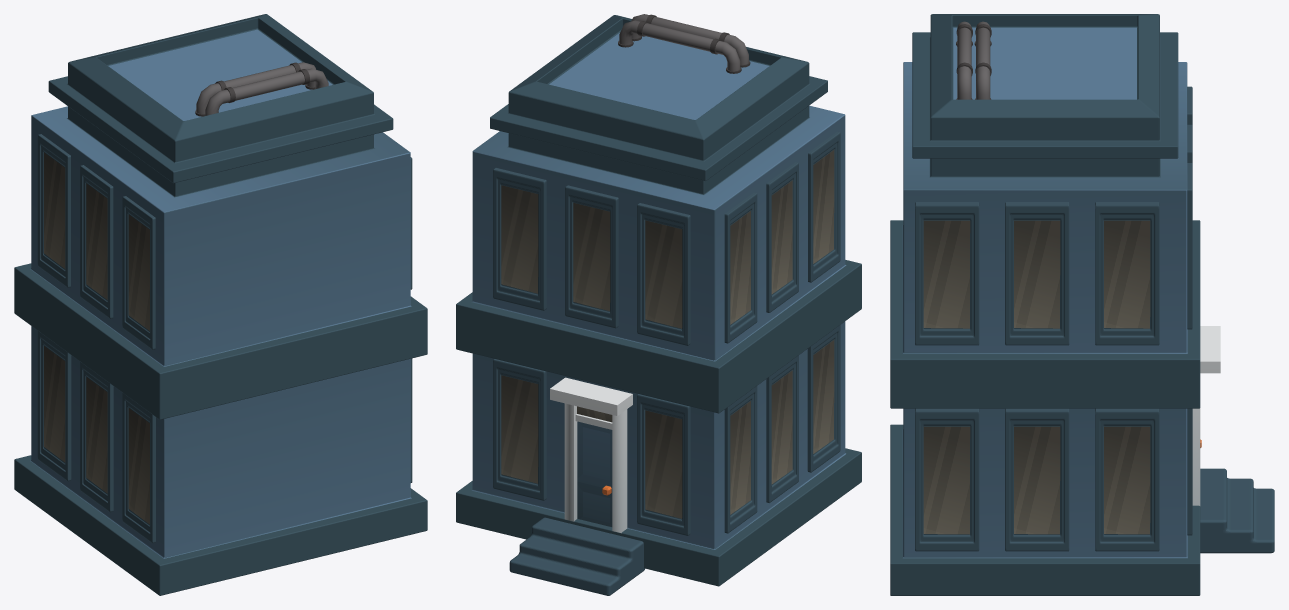
Rendered from EDIFICIO AZUL GRANDE.fbx.
The picture shows the model from 3 angles, left to right: view 1: azimuth 30°, elevation 25°; view 2: azimuth 150°, elevation 25°; view 3: azimuth 270°, elevation 25°; orthographic projection. The views are drawn at different scales.
Visible parts, largest first — view 1: POLICE.004; view 2: POLICE.004; view 3: POLICE.004.
Part boxes in pixels (x1,y1,x2,y2): POLICE.004: (14,14,427,595); POLICE.004: (456,14,861,595); POLICE.004: (890,14,1274,595).
Size of the model in its own units: 1306 by 1523 by 2143.
Materials: 5 (5 with a texture image).
